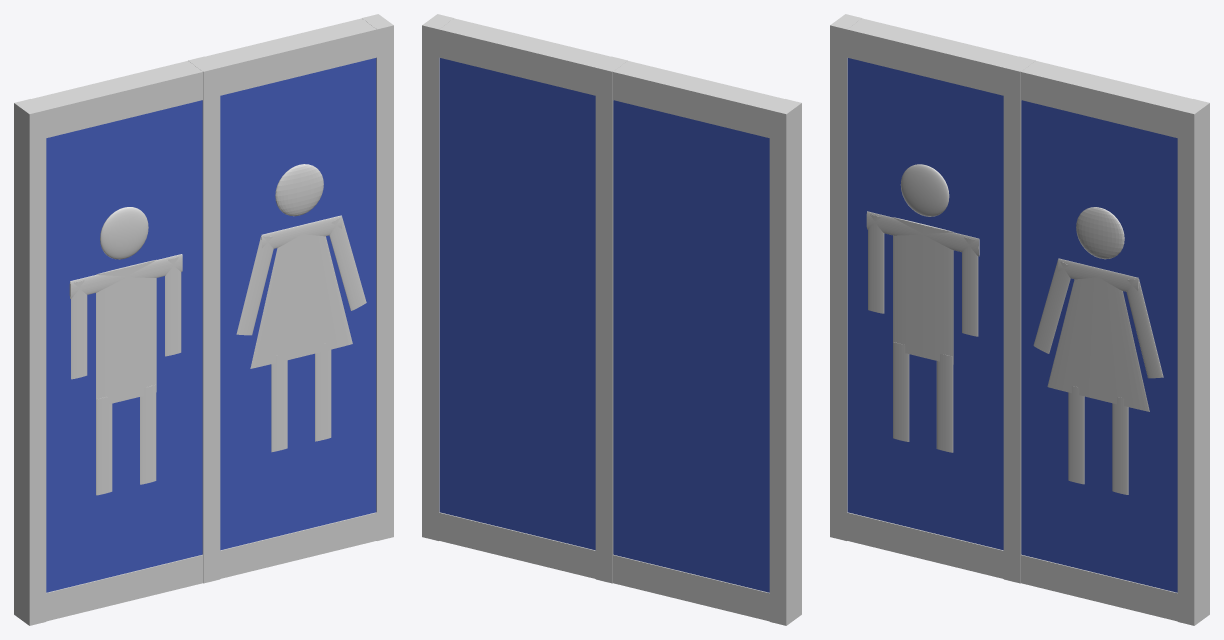
The model's file is toilet sign.fbx.
The picture shows the model from 3 angles, left to right: view 1: azimuth 30°, elevation 25°; view 2: azimuth 150°, elevation 25°; view 3: azimuth 330°, elevation 25°; orthographic projection.
Visible parts, largest first — view 1: Cube, Cylinder.011, Sphere.001, Cylinder.007, Cylinder.010, Cylinder.008, Cylinder.006, Cylinder.020; view 2: Cube; view 3: Cube, Cylinder.011, Cylinder.007, Cylinder.006, Cylinder.010, Sphere.001, Cylinder.008, Cylinder.020.
Boxes of the visible parts, bbox=[...] form: Cube: bbox=[14, 14, 393, 625]; Cylinder.011: bbox=[96, 260, 156, 403]; Sphere.001: bbox=[100, 216, 148, 259]; Cylinder.007: bbox=[96, 397, 112, 494]; Cylinder.010: bbox=[71, 280, 87, 378]; Cylinder.008: bbox=[165, 257, 180, 356]; Cylinder.006: bbox=[140, 385, 156, 484]; Cylinder.020: bbox=[69, 263, 182, 298]; Cube: bbox=[422, 14, 801, 625]; Cube: bbox=[830, 14, 1209, 625]; Cylinder.011: bbox=[893, 218, 953, 364]; Cylinder.007: bbox=[893, 342, 909, 441]; Cylinder.006: bbox=[936, 354, 953, 452]; Cylinder.010: bbox=[868, 215, 884, 313]; Sphere.001: bbox=[901, 173, 949, 216]; Cylinder.008: bbox=[962, 237, 978, 336]; Cylinder.020: bbox=[866, 220, 979, 256].
Bounding box in the file's own units: 204 × 274 × 17.21.
